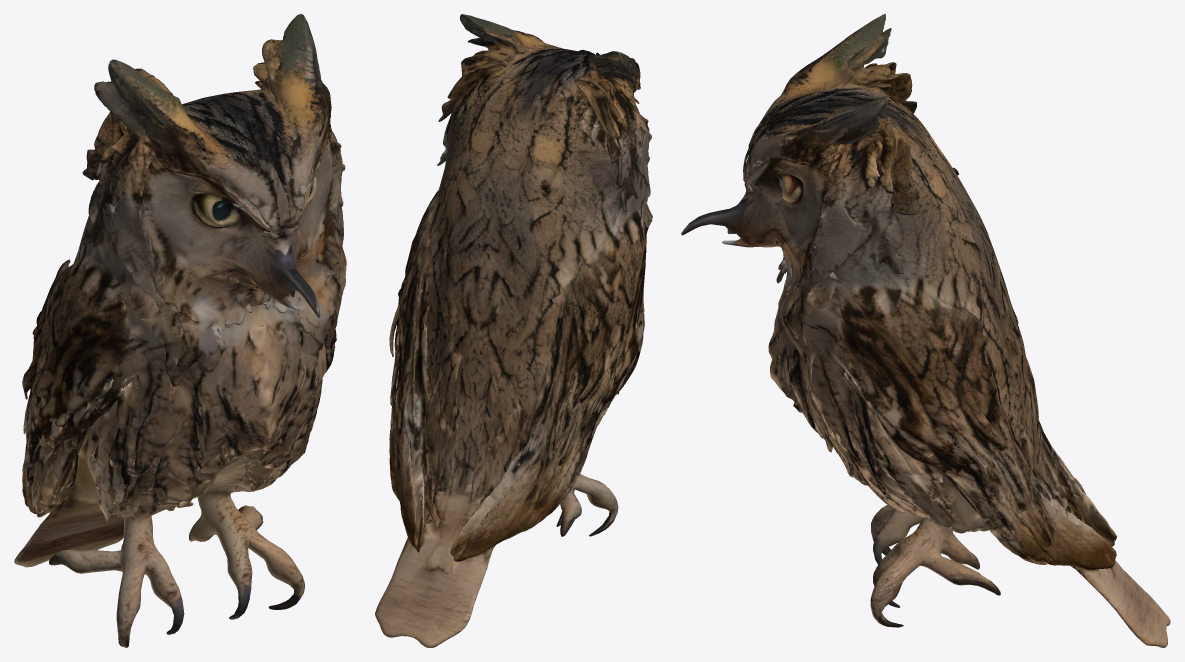
3 views of the same model, side by side, from view 1: azimuth 30°, elevation 25°; view 2: azimuth 150°, elevation 25°; view 3: azimuth 270°, elevation 25° (orthographic). The views are drawn at different scales.
Parts seen in each view (by area): view 1: tripo_node_30df2d24-a5b6-4255-ba30-ab50f3ab0d6a; view 2: tripo_node_30df2d24-a5b6-4255-ba30-ab50f3ab0d6a; view 3: tripo_node_30df2d24-a5b6-4255-ba30-ab50f3ab0d6a.
Part boxes in pixels (<box>): tripo_node_30df2d24-a5b6-4255-ba30-ab50f3ab0d6a: <box>14,14,346,647</box>; tripo_node_30df2d24-a5b6-4255-ba30-ab50f3ab0d6a: <box>375,14,652,647</box>; tripo_node_30df2d24-a5b6-4255-ba30-ab50f3ab0d6a: <box>681,14,1170,647</box>.
Size of the model in its own units: 0.4366 by 0.9998 by 0.768.
1 material, 1 textured.
